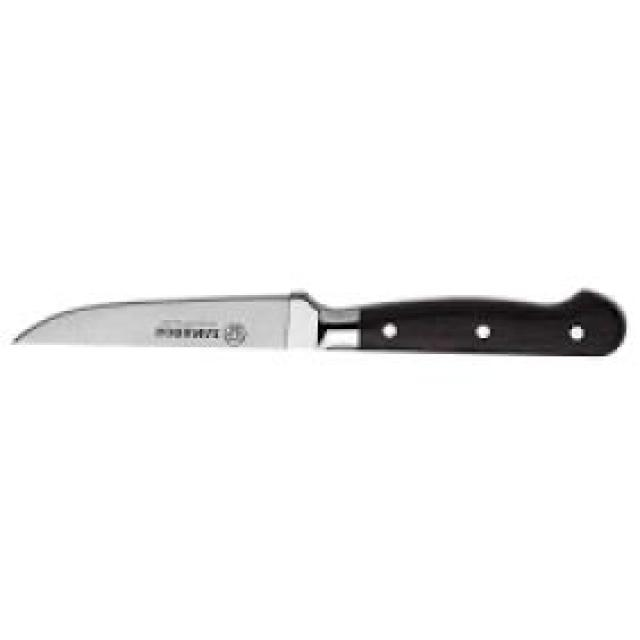knife: (9, 282, 639, 356)
